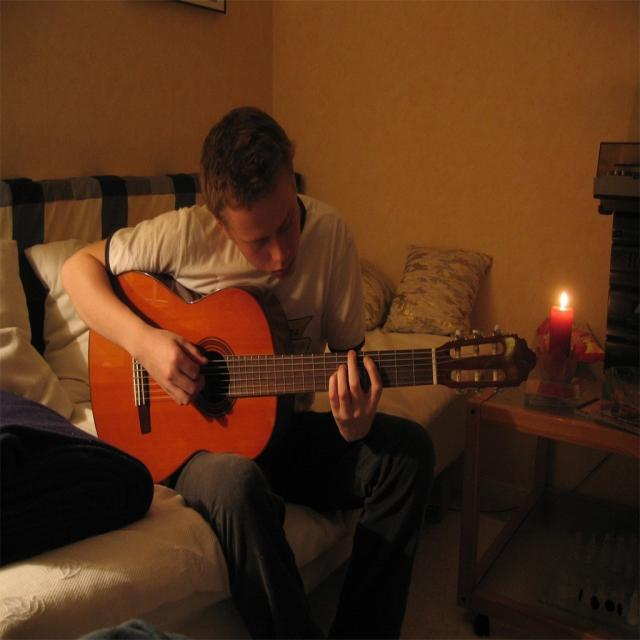guitar: (86, 266, 536, 485)
